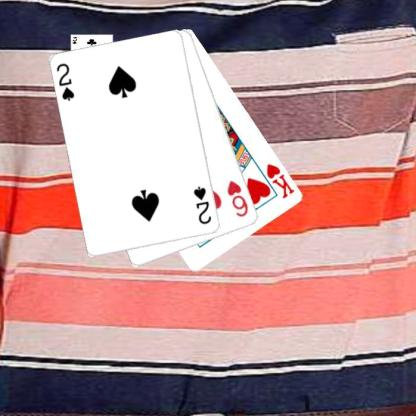2S: (191, 183, 213, 226), (54, 61, 76, 102)
6H: (224, 178, 249, 219)
KH: (264, 161, 296, 200)
